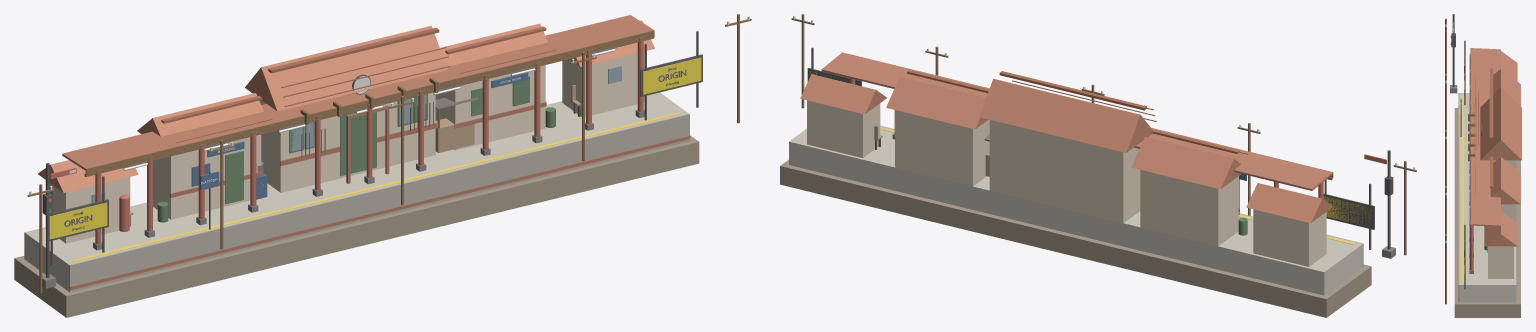
Rendered from station_origin.glb.
3 renders of one model, left to right at view 1: azimuth 30°, elevation 25°; view 2: azimuth 150°, elevation 25°; view 3: azimuth 270°, elevation 25°, orthographic. The views are drawn at different scales.
Visible parts, largest first — view 1: Platform_Foundation, Platform_FrontEdge, Platform_Base, Platform_Canopy_Roof, MainHall_Roof, Building_MainHall, Canopy_Fascia, Building_BookingOffice, Building_StationMaster, Building_Shed_R, Platform_TrimBand, Building_Shed_L (+15 smaller); view 2: Platform_Base, Platform_Foundation, Building_MainHall, MainHall_Roof, Building_BookingOffice, Building_StationMaster, Platform_Canopy_Roof, BookingOffice_Roof, Building_Shed_L, Building_Shed_R, StationMaster_Roof, Shed_R_Roof (+4 smaller); view 3: Platform_Base, Platform_Canopy_Roof, MainHall_Roof, Platform_Foundation, StationMaster_Roof, Shed_R_Roof, Building_Shed_R, BookingOffice_Roof, Platform_SafetyStripe, Platform_FrontEdge, Shed_L_Roof, MainHall_RoofRidge (+15 smaller).
Part boxes in pixels (box(x1,y1,x2,y2)): Platform_Foundation: box(14, 135, 699, 317); Platform_FrontEdge: box(69, 114, 689, 292); Platform_Base: box(24, 92, 688, 291); Platform_Canopy_Roof: box(62, 15, 653, 170); MainHall_Roof: box(245, 25, 447, 111); Building_MainHall: box(259, 92, 435, 192); Canopy_Fascia: box(85, 30, 654, 175); Building_BookingOffice: box(153, 134, 261, 219); Building_StationMaster: box(435, 65, 545, 150); Building_Shed_R: box(562, 51, 644, 116); Platform_TrimBand: box(70, 135, 690, 290); Building_Shed_L: box(45, 177, 130, 243); Platform_Base: box(789, 126, 1362, 295); Platform_Foundation: box(780, 159, 1371, 317); Building_MainHall: box(989, 120, 1140, 223); MainHall_Roof: box(979, 79, 1153, 152); Building_BookingOffice: box(1140, 170, 1238, 246); Building_StationMaster: box(895, 110, 989, 186); Platform_Canopy_Roof: box(821, 52, 1332, 190); BookingOffice_Roof: box(1131, 137, 1241, 189); Building_Shed_L: box(1253, 209, 1326, 266); Building_Shed_R: box(807, 100, 880, 157); StationMaster_Roof: box(886, 77, 988, 129); Shed_R_Roof: box(800, 74, 886, 114); Platform_Base: box(1459, 93, 1516, 302); Platform_Canopy_Roof: box(1470, 48, 1500, 226); MainHall_Roof: box(1480, 87, 1521, 160); Platform_Foundation: box(1454, 108, 1520, 317); StationMaster_Roof: box(1490, 157, 1520, 204); Shed_R_Roof: box(1484, 211, 1517, 246); Building_Shed_R: box(1488, 246, 1513, 278); BookingOffice_Roof: box(1493, 69, 1520, 106); Platform_SafetyStripe: box(1461, 94, 1463, 282); Platform_FrontEdge: box(1458, 93, 1459, 302); Shed_L_Roof: box(1501, 51, 1517, 81); MainHall_RoofRidge: box(1489, 85, 1493, 139).
Bounding box in the file's own units: 28 × 6.3 × 4.05.
